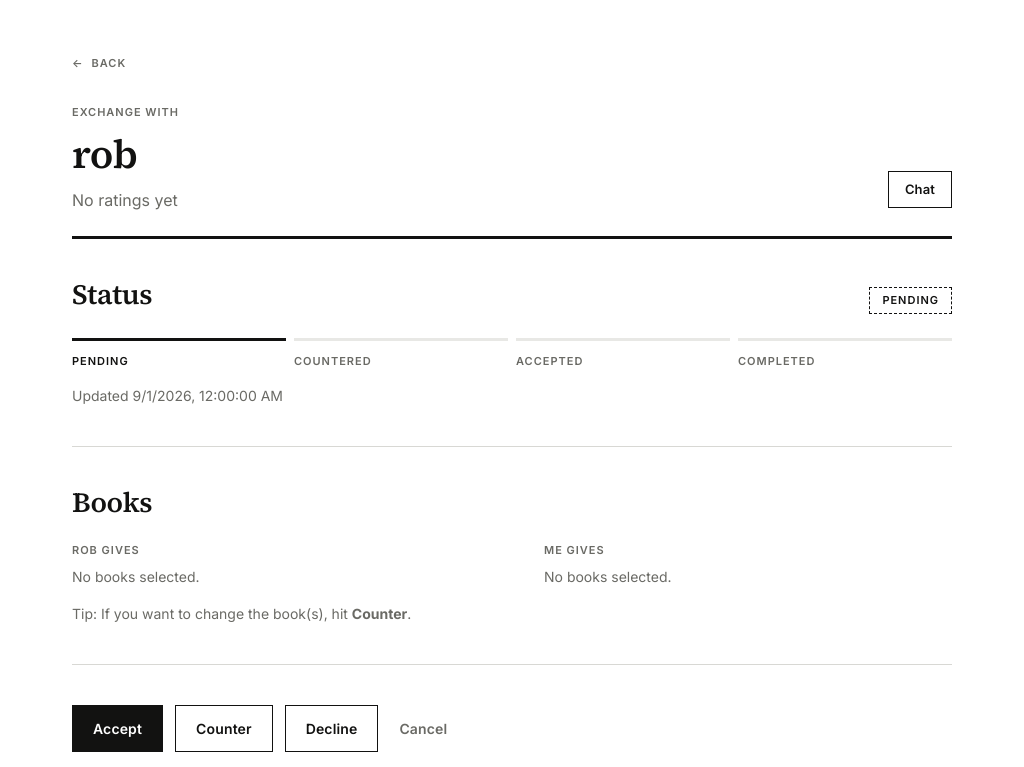
Test case: a trade's action is confirmed in place, not in a pop-up
The width and height of the screenshot is (1024, 767).
Click the button "Accept".
click(118, 729)  # box top-left (72, 705), bottom-right (163, 752)
(page scrolled)
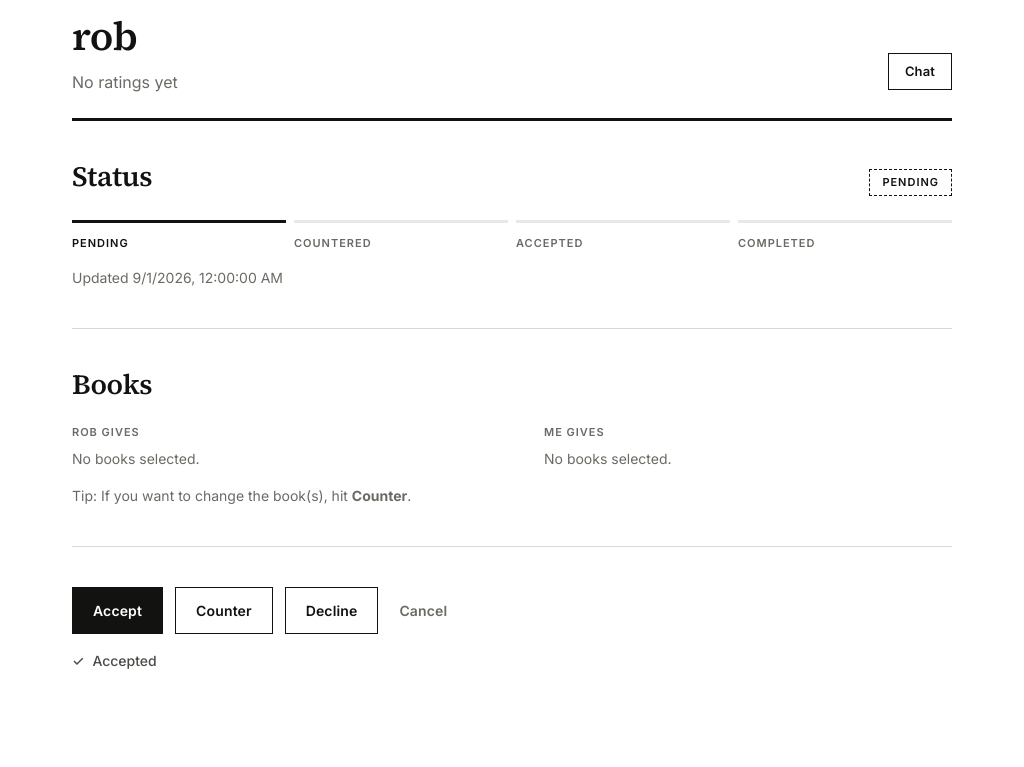
Now the text "Accepted" is shown, box top-left (72, 650), bottom-right (157, 671)
